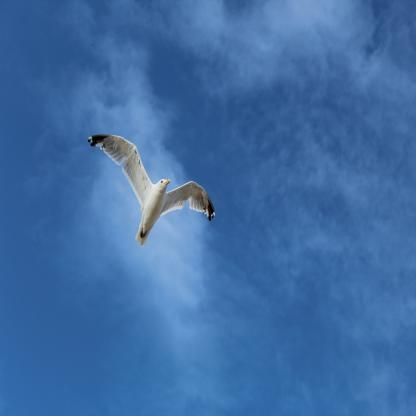bird: (88, 134, 216, 248)
